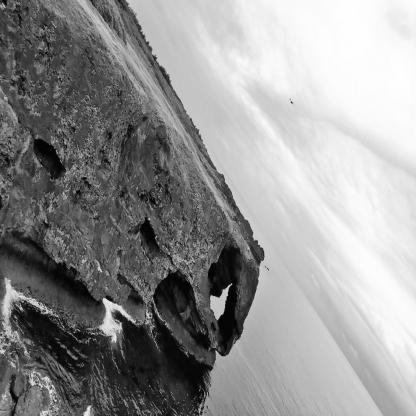V22: (289, 97, 296, 108)
